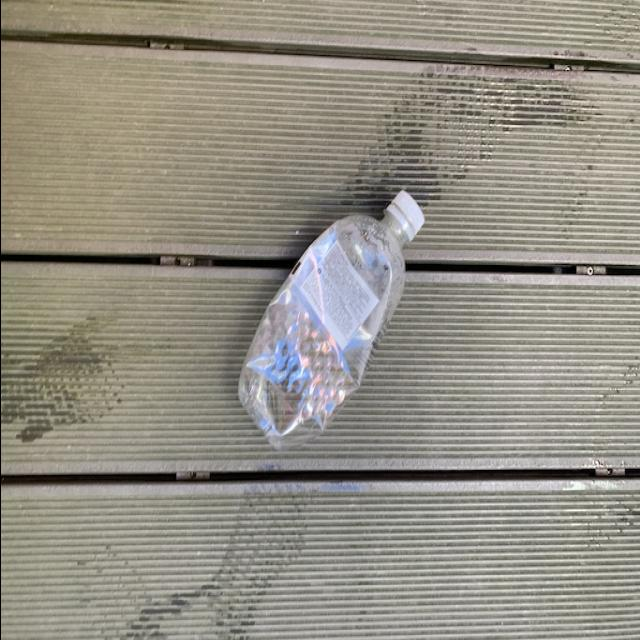litter: (230, 185, 426, 449)
